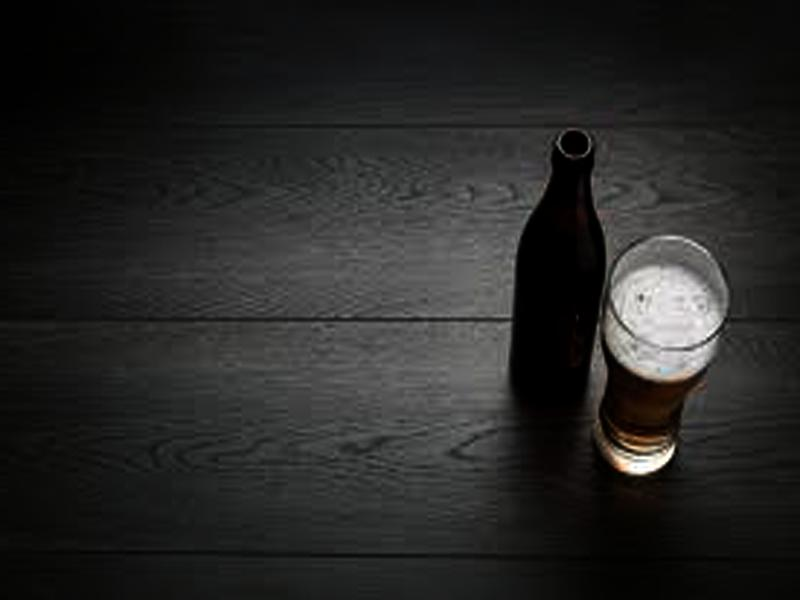Beer: (508, 125, 607, 413)
